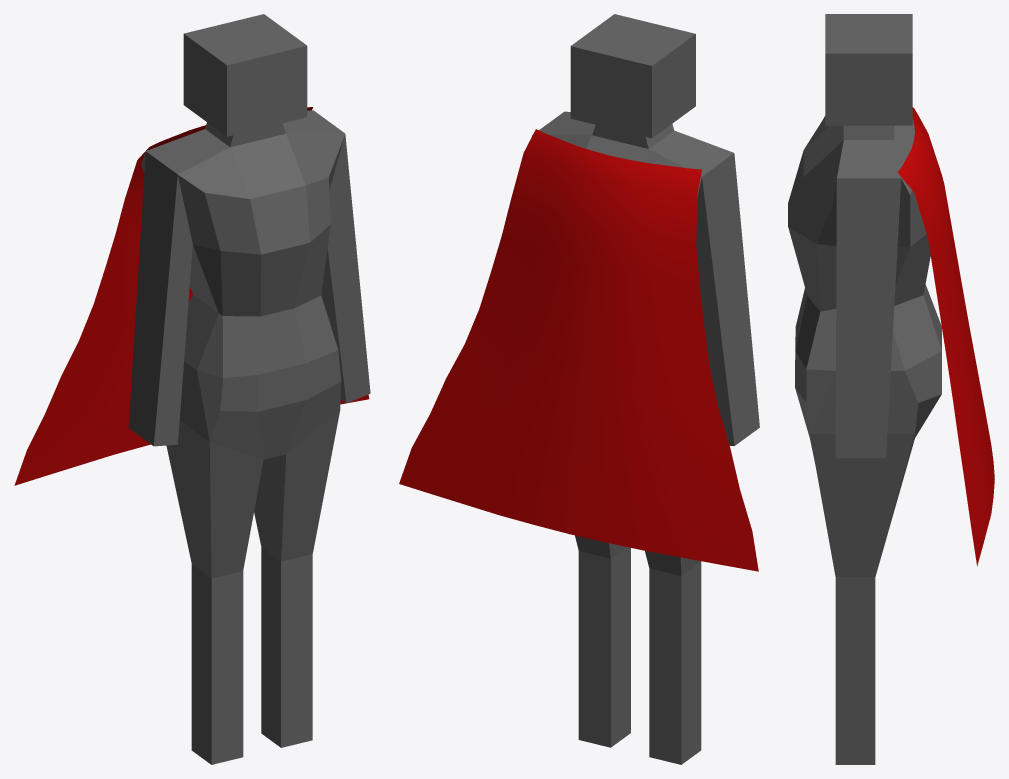
The model's file is capeMan.dae.
3 views of the same model, side by side, from view 1: azimuth 30°, elevation 25°; view 2: azimuth 150°, elevation 25°; view 3: azimuth 270°, elevation 25° (orthographic).
Parts seen in each view (by area): view 1: body, cape; view 2: cape, body; view 3: body, cape.
Boxes of the visible parts, x1=… form: body: x1=128, y1=14, x2=370, y2=764; cape: x1=14, y1=107, x2=369, y2=485; cape: x1=399, y1=129, x2=758, y2=571; body: x1=532, y1=14, x2=759, y2=764; body: x1=788, y1=14, x2=941, y2=764; cape: x1=897, y1=107, x2=994, y2=566.
Size of the model in its own units: 1.45 by 2.73 by 0.7247.
